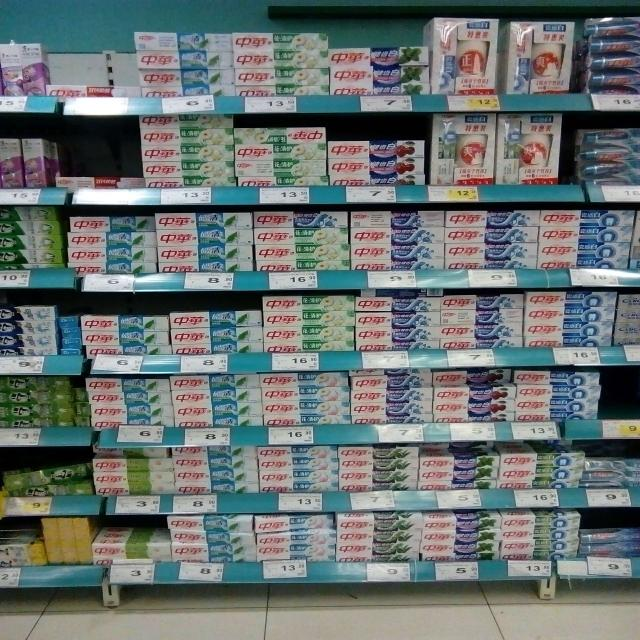empty: (601, 363, 640, 434)
